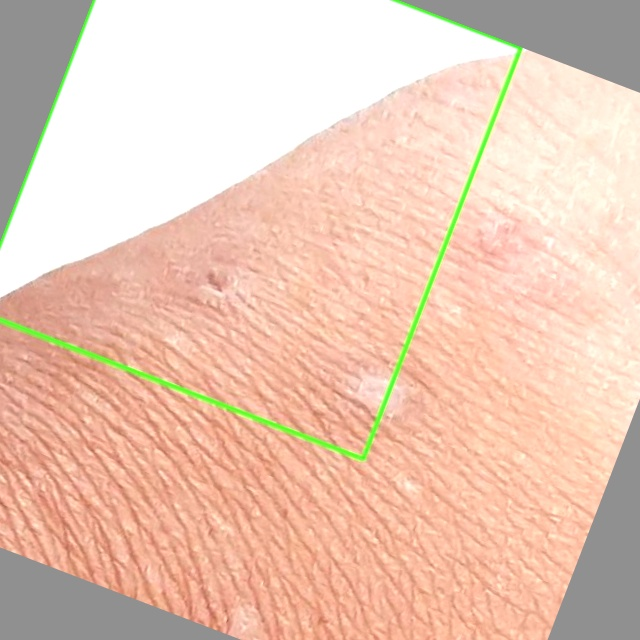Scabies: (0, 0, 520, 458)
